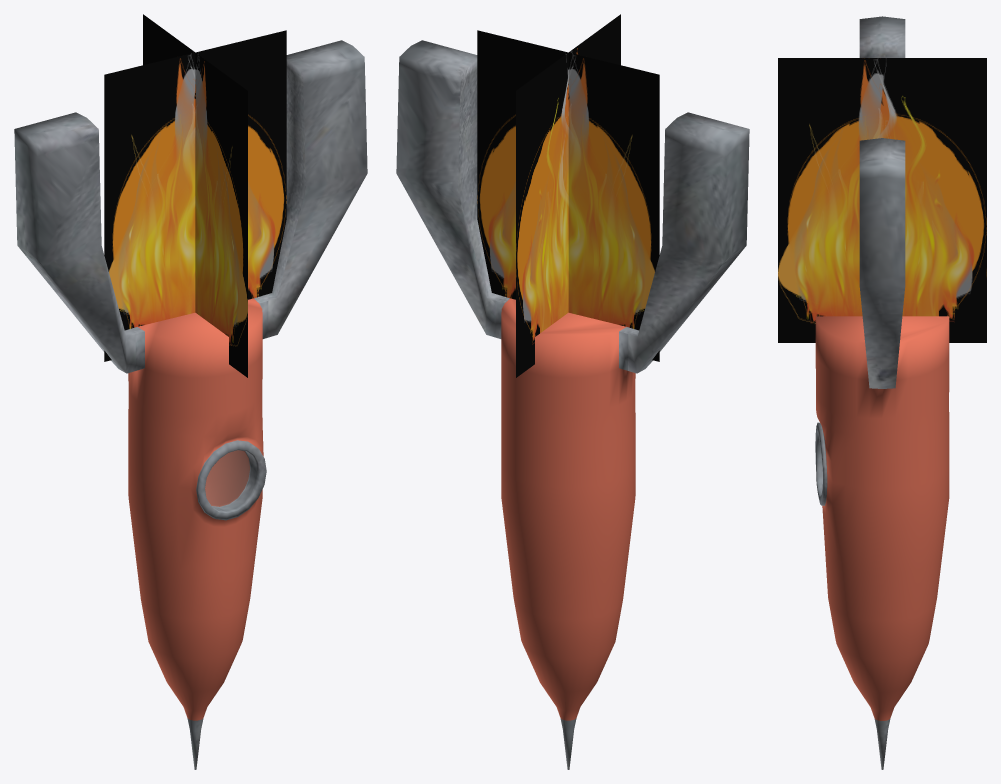
The model's file is rackete.fbx.
The picture shows the model from 3 angles, left to right: view 1: azimuth 30°, elevation 25°; view 2: azimuth 150°, elevation 25°; view 3: azimuth 270°, elevation 25°; orthographic projection.
Visible parts, largest first — view 1: Cylinder.002; view 2: Cylinder.002; view 3: Cylinder.002.
Boxes of the visible parts, left/top/right/bottom form: Cylinder.002: left=14, top=14, right=367, bottom=769; Cylinder.002: left=396, top=14, right=749, bottom=769; Cylinder.002: left=778, top=16, right=986, bottom=769.
Size of the model in its own units: 913 by 1894 by 504.
4 materials, 2 textured.
